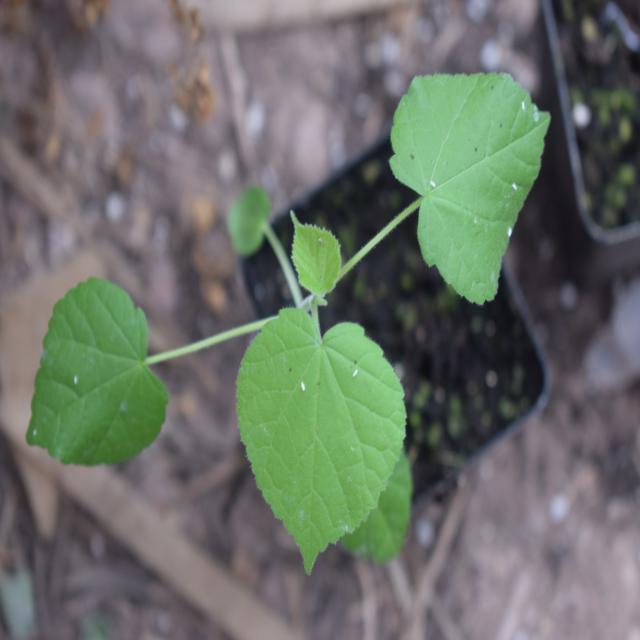abutilon theophrasti: (36, 57, 552, 580)
